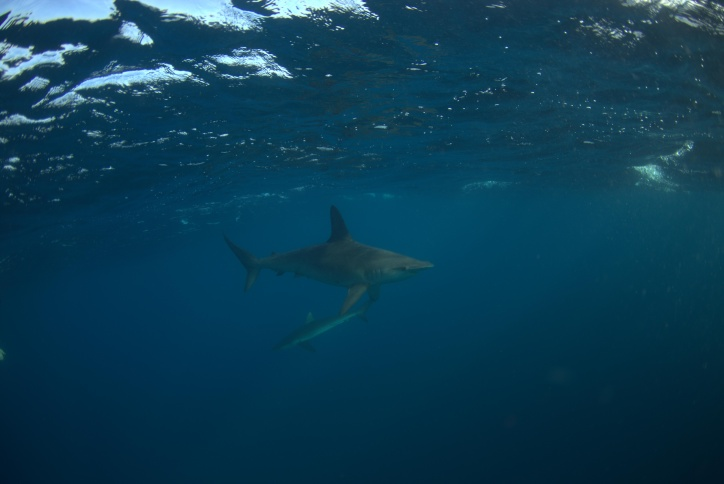Sedoso: (262, 294, 378, 363)
